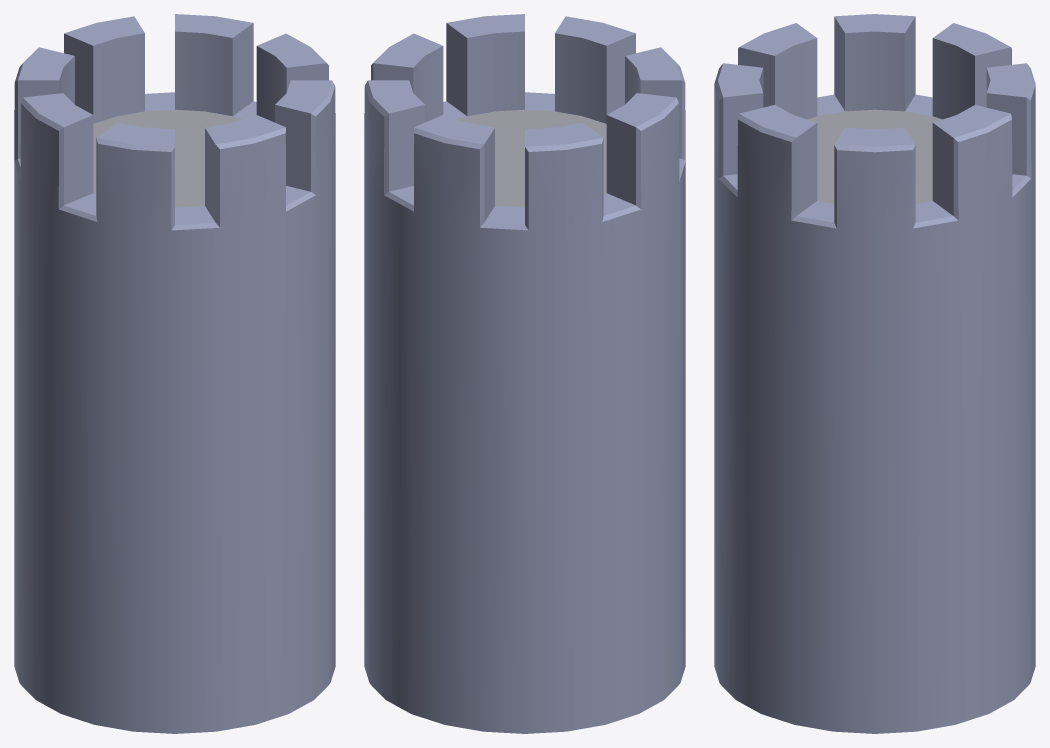
Rendered from NEW ENVIREMENTЕЕ CASTLEe.fbx.
3 views of the same model, side by side, from view 1: azimuth 30°, elevation 25°; view 2: azimuth 150°, elevation 25°; view 3: azimuth 270°, elevation 25° (orthographic).
Parts seen in each view (by area): view 1: Cylinder.005; view 2: Cylinder.005; view 3: Cylinder.005.
Part boxes in pixels (<box>): Cylinder.005: <box>14,14,335,733</box>; Cylinder.005: <box>364,14,685,733</box>; Cylinder.005: <box>714,14,1035,733</box>.
Size of what is drawn, in the model's own units: 11.82 by 23.76 by 11.82.
